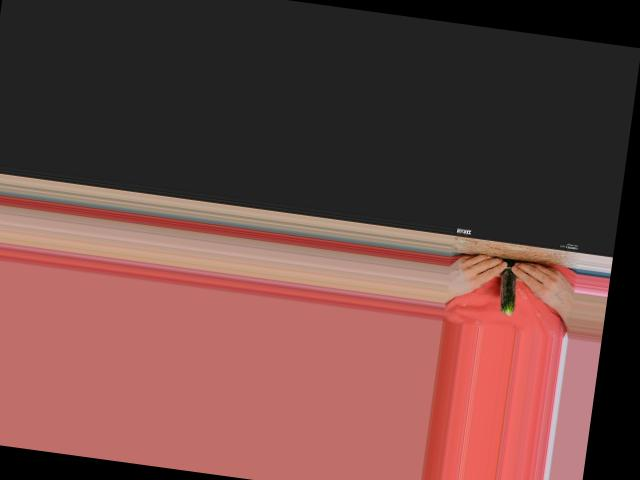cucumber: (496, 258, 521, 315)
